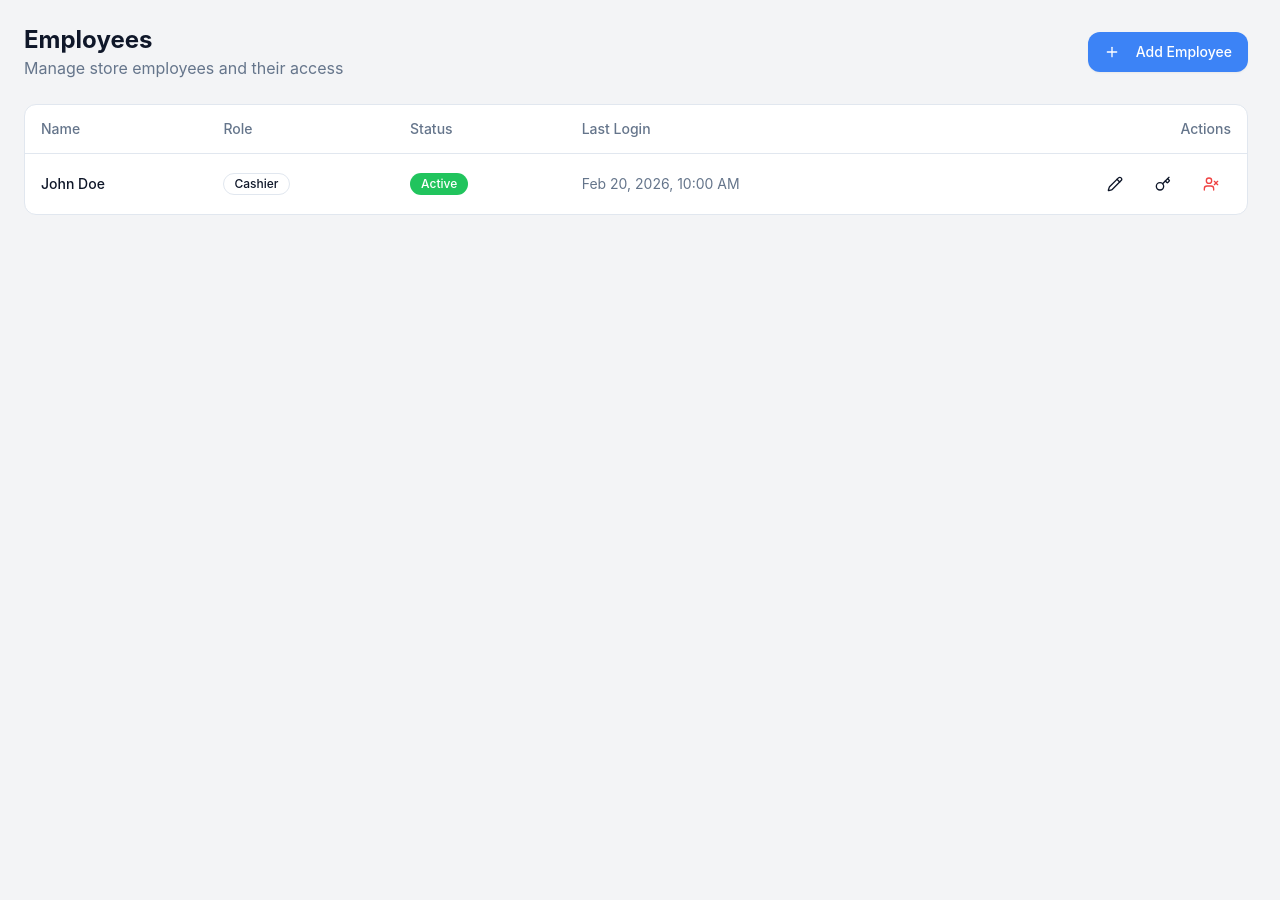
Test: EmployeesPage Dialog Error Handling › Change PIN Dialog Error Handling › DE-003: should display pinError inside Change PIN dialog (ERR-006)
The width and height of the screenshot is (1280, 900).
# Open PIN dialog via key icon button
Click the button named "change pin".
click(1163, 184)  # box [1143,166,1183,202]
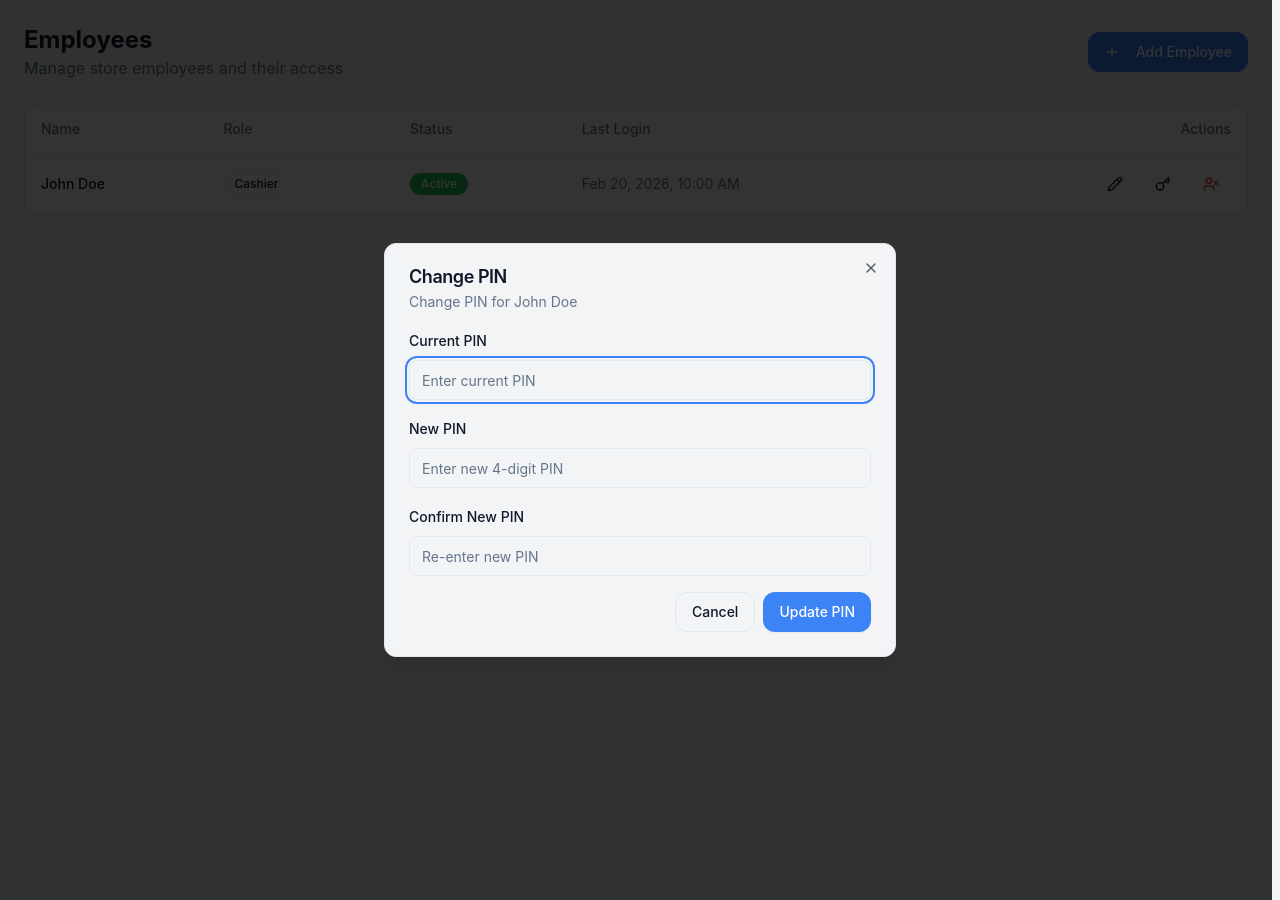
# Fill form and submit
Type "1234" into the password field with placeholder "Enter current PIN".
click(640, 380); type("1234")  # box [409,360,871,400]
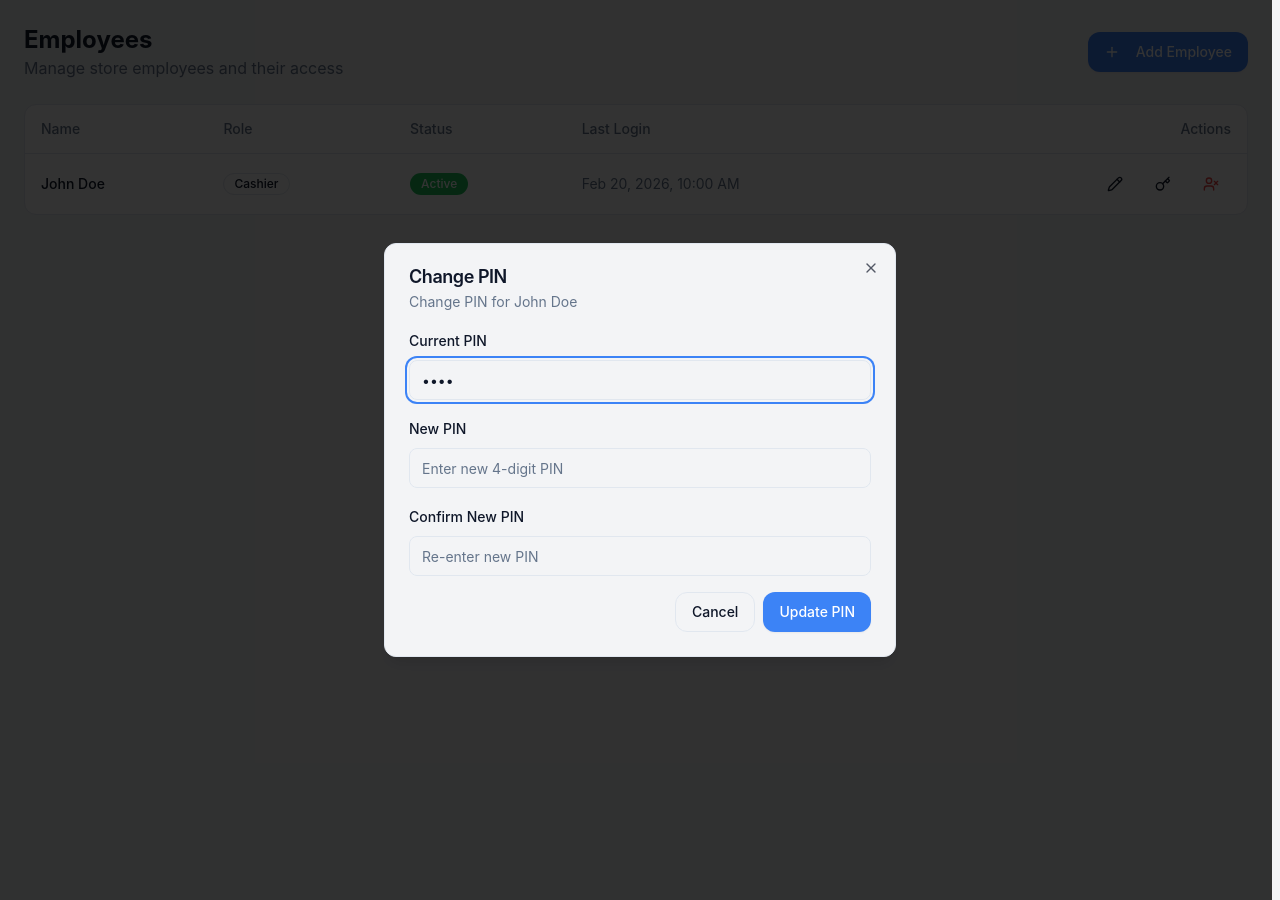
Type "5678" into the password field with placeholder "Enter new 4-digit PIN".
click(640, 468); type("5678")  # box [409,448,871,488]
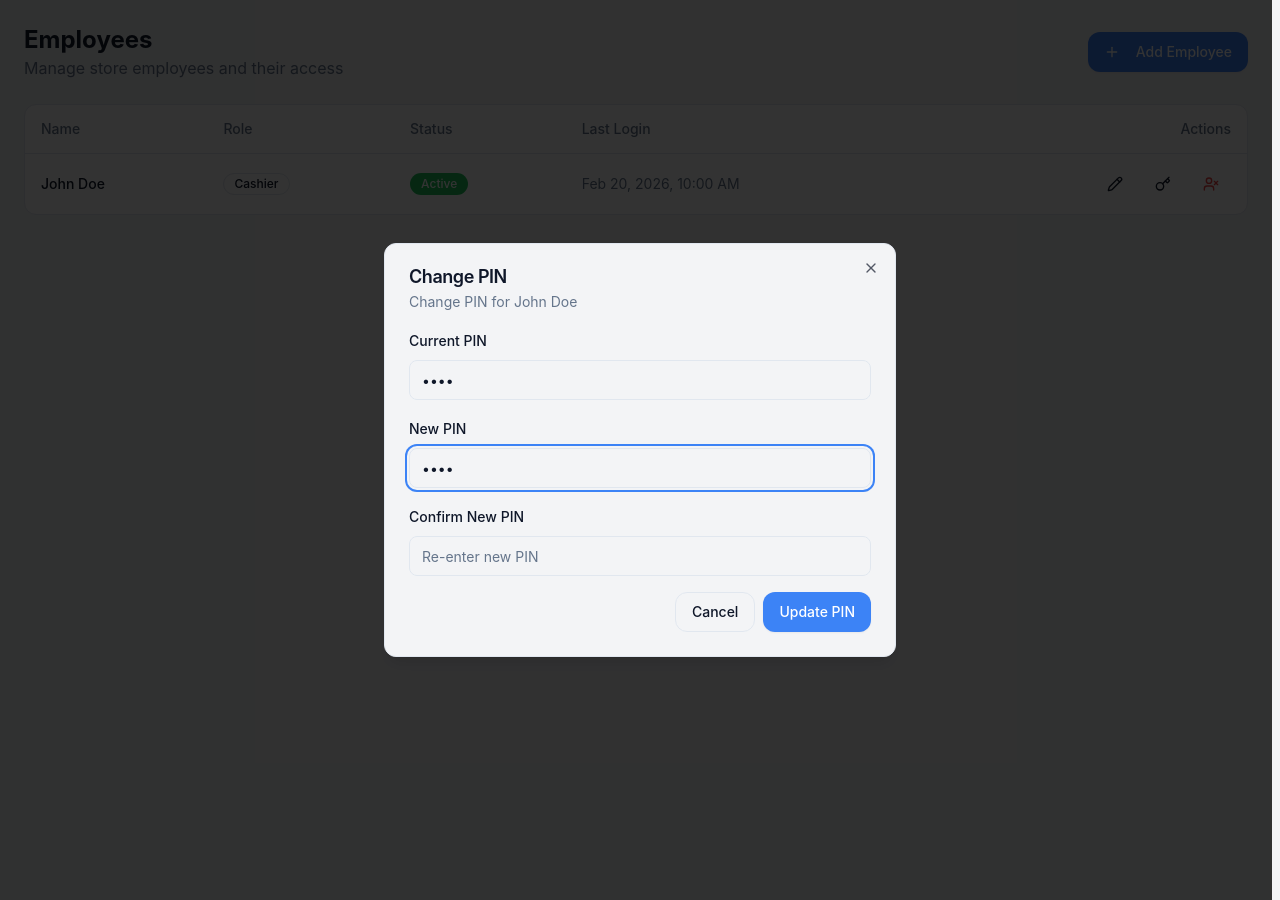
Type "5678" into the password field with placeholder "Re-enter new PIN".
click(640, 556); type("5678")  # box [409,536,871,576]
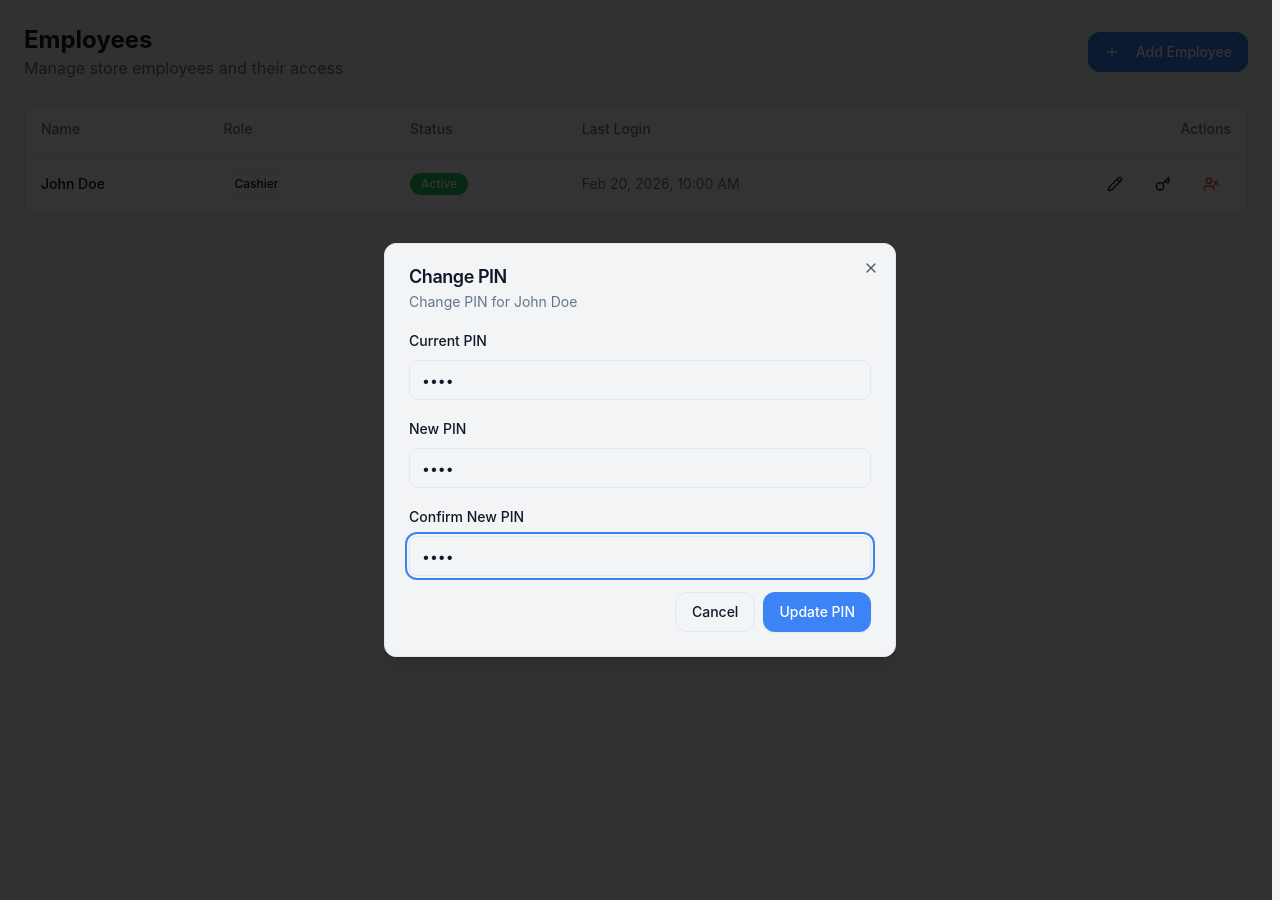
Click the button "Update PIN".
click(817, 612)  # box [763,592,871,632]
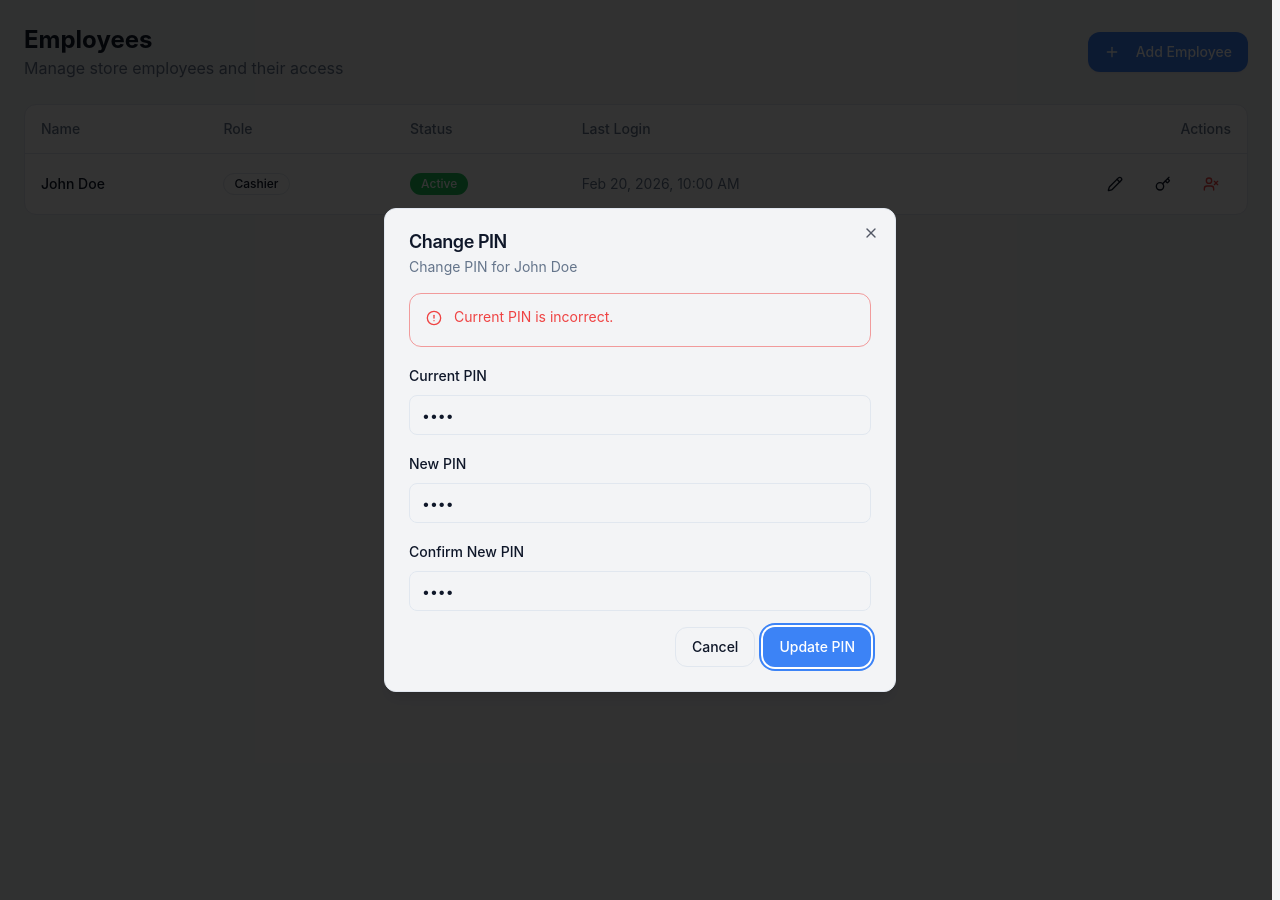
Expected: the message "Current PIN is incorrect." is shown, [409,293,871,347]
Expected: the message reads "Current PIN is incorrect.", [454,308,613,325]
